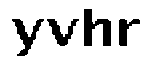h: (81, 7, 115, 52)
r: (116, 16, 144, 48)
v: (43, 14, 77, 48)
y: (10, 17, 44, 60)
